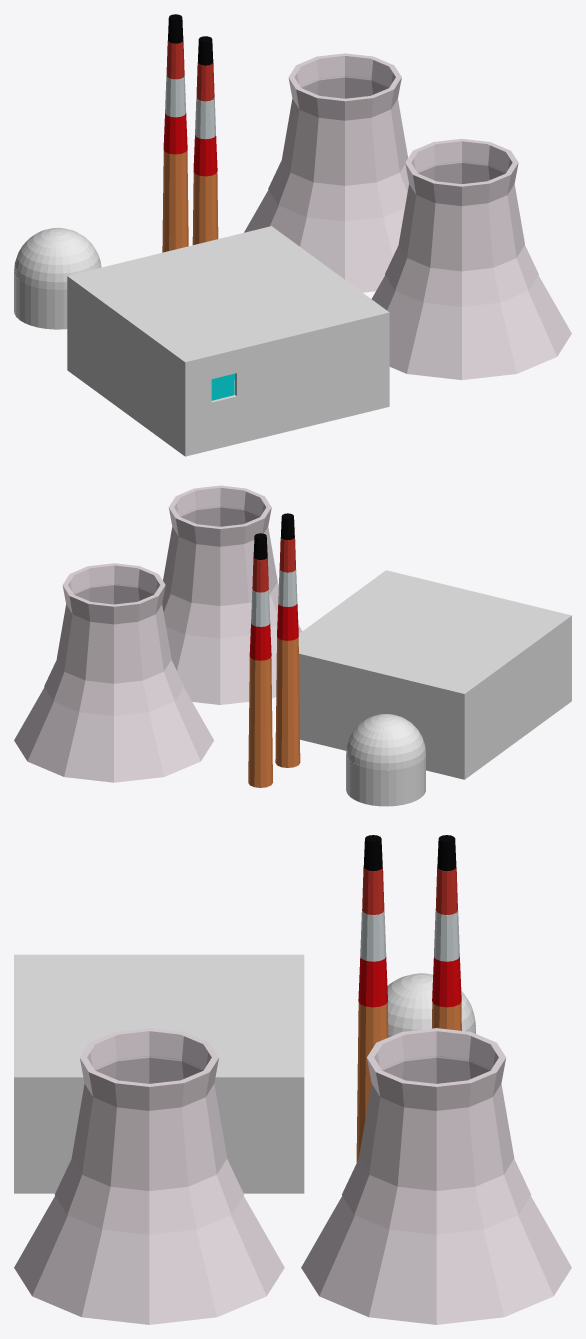
Rendered from AKW3.fbx.
3 renders of one model, top to bottom at view 1: azimuth 30°, elevation 25°; view 2: azimuth 150°, elevation 25°; view 3: azimuth 270°, elevation 25°, orthographic. The views are drawn at different scales.
Parts seen in each view (by area): view 1: Cube, Cube.001, Cube.003, Cube.005, Sphere, Cylinder, Cylinder.011, Cylinder.009, Cylinder.008, Cylinder.001, Cylinder.002, Cylinder.007 (+2 smaller); view 2: Cube, Cube.003, Cube.001, Cube.005, Sphere, Cylinder, Cylinder.009, Cylinder.011, Cylinder.001, Cylinder.008, Cylinder.007, Cylinder.002 (+2 smaller); view 3: Cube.001, Cube.003, Cube, Cube.005, Sphere, Cylinder.009, Cylinder.001, Cylinder.008, Cylinder.007, Cylinder.002, Cylinder.006, Cylinder.003 (+3 smaller).
Part boxes in pixels (<box>): Cube: <box>67,226,389,456</box>; Cube.001: <box>371,138,571,380</box>; Cube.003: <box>244,53,408,292</box>; Cube.005: <box>121,226,389,443</box>; Sphere: <box>14,227,101,290</box>; Cylinder: <box>162,150,188,252</box>; Cylinder.011: <box>14,271,67,329</box>; Cylinder.009: <box>192,172,218,244</box>; Cylinder.008: <box>193,135,217,176</box>; Cylinder.001: <box>163,113,187,154</box>; Cylinder.002: <box>165,75,186,117</box>; Cylinder.007: <box>195,97,215,139</box>; Cube: <box>298,570,571,779</box>; Cube.003: <box>14,563,213,782</box>; Cube.001: <box>162,485,302,704</box>; Cube.005: <box>298,570,523,750</box>; Sphere: <box>346,714,425,769</box>; Cylinder: <box>248,656,272,787</box>; Cylinder.009: <box>275,637,300,767</box>; Cylinder.011: <box>346,754,425,806</box>; Cylinder.001: <box>249,623,271,660</box>; Cylinder.008: <box>277,603,298,640</box>; Cylinder.007: <box>278,569,297,606</box>; Cylinder.002: <box>251,589,270,626</box>; Cube.001: <box>14,1028,284,1324</box>; Cube.003: <box>301,1028,571,1324</box>; Cube: <box>14,954,304,1193</box>; Cube.005: <box>14,986,304,1077</box>; Sphere: <box>387,973,475,1037</box>; Cylinder.009: <box>356,1002,388,1162</box>; Cylinder.001: <box>432,956,461,1007</box>; Cylinder.008: <box>358,956,387,1007</box>; Cylinder.007: <box>360,910,386,961</box>; Cylinder.002: <box>434,910,459,961</box>; Cylinder.006: <box>362,867,384,914</box>; Cylinder.003: <box>435,867,457,914</box>.
Size of the model in its own units: 1119 by 680 by 1030.
